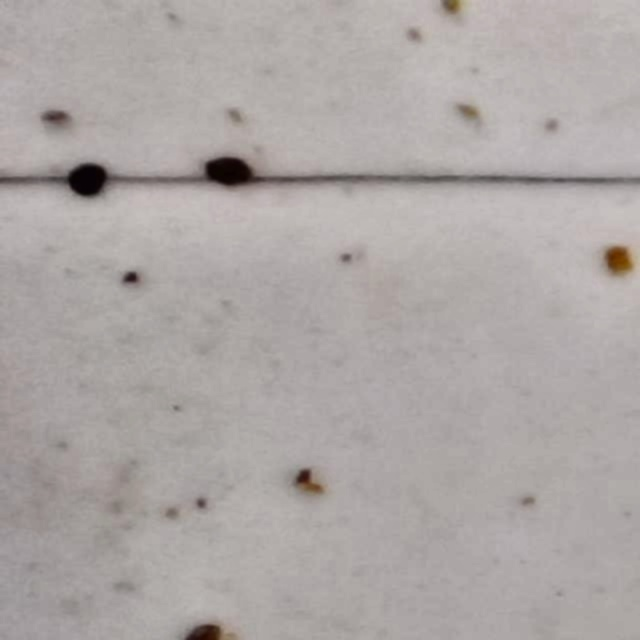varroa: (205, 156, 257, 189), (68, 162, 109, 196)
